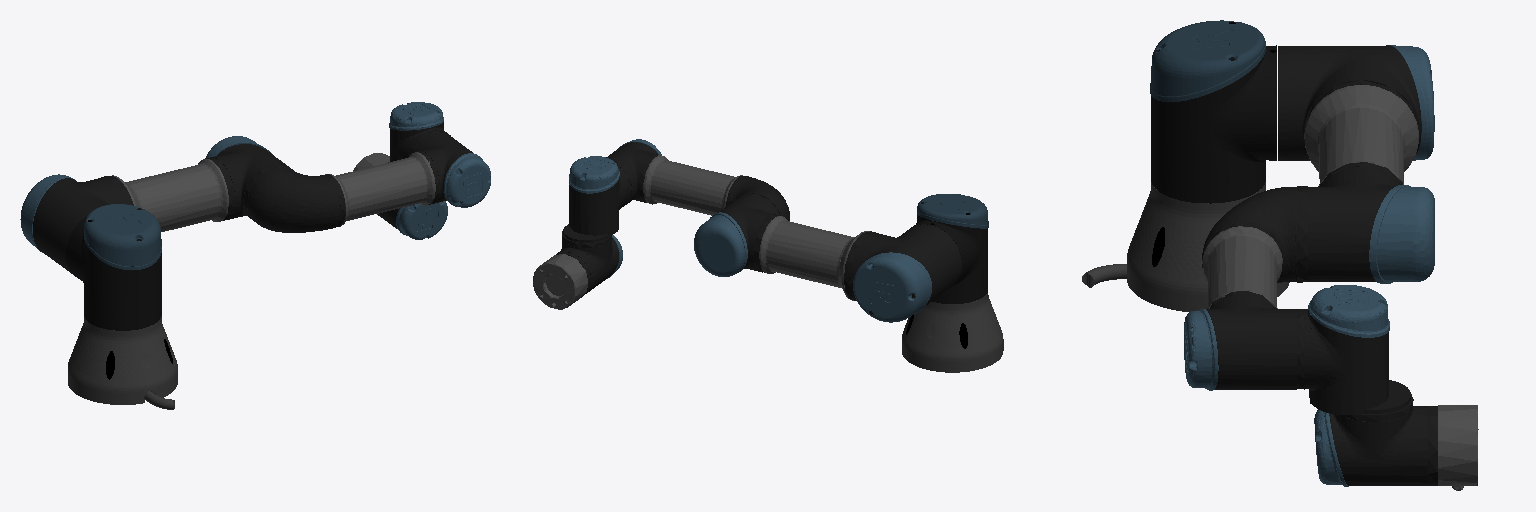
URDF robot description (ur):
<?xml version="1.0" ?>
<!-- =================================================================================== -->
<!-- |    This document was autogenerated by xacro from ur3e_urdf.xacro                | -->
<!-- |    EDITING THIS FILE BY HAND IS NOT RECOMMENDED                                 | -->
<!-- =================================================================================== -->
<robot name="ur">
  <!-- Source: ROS 2 Iron branch of the ur_description package -->
  <!-- https://github.com/UniversalRobots/Universal_Robots_ROS2_Description/blob/iron/urdf/ur.urdf.xacro -->
  <!--
    Base UR robot series xacro macro.

    NOTE this is NOT a URDF. It cannot directly be loaded by consumers
    expecting a flattened '.urdf' file. See the top-level '.xacro' for that
    (but note that .xacro must still be processed by the xacro command).

    This file models the base kinematic chain of a UR robot, which then gets
    parameterised by various configuration files to convert it into a UR3(e),
    UR5(e), UR10(e) or UR16e.

    NOTE the default kinematic parameters (i.e., link lengths, frame locations,
    offsets, etc) do not correspond to any particular robot. They are defaults
    only. There WILL be non-zero offsets between the Forward Kinematics results
    in TF (i.e., robot_state_publisher) and the values reported by the Teach
    Pendant.

    For accurate (and robot-specific) transforms, the 'kinematics_parameters_file'
    parameter MUST point to a .yaml file containing the appropriate values for
    the targeted robot.

    If using the UniversalRobots/Universal_Robots_ROS_Driver, follow the steps
    described in the readme of that repository to extract the kinematic
    calibration from the controller and generate the required .yaml file.

    Main author of the migration to yaml configs [author].

    Contributors to previous versions (in no particular order)

     - [author]
     - [author]
     - [author]
     - [author]
     - [author]
     - [author]
     - [author]
     - [author]
     - [author]
     - [author]
     - [author]
     - [author]
     - [author]
     - [author]
     - [author]
     - [author]
     - [author]
     - [author]
     - [author]
  -->
  <!--
    NOTE the macro defined in this file is NOT part of the public API of this
          package. Users CANNOT rely on this file being available, or stored in
          this location. Nor can they rely on the existence of the macro.
  -->
  <!-- create link fixed to the "world" -->
  <link name="world"/>
  <ros2_control name="ur" type="system">
    <hardware>
      <plugin>ur_robot_driver/URPositionHardwareInterface</plugin>
      <param name="robot_ip">0.0.0.0</param>
      <param name="script_filename"></param>
      <param name="output_recipe_filename"></param>
      <param name="input_recipe_filename"></param>
      <param name="headless_mode">False</param>
      <param name="reverse_port">50001</param>
      <param name="script_sender_port">50002</param>
      <param name="reverse_ip">0.0.0.0</param>
      <param name="script_command_port">50004</param>
      <param name="trajectory_port">50003</param>
      <param name="tf_prefix">ur3e_</param>
      <param name="non_blocking_read">True</param>
      <param name="servoj_gain">2000</param>
      <param name="servoj_lookahead_time">0.03</param>
      <param name="use_tool_communication">False</param>
      <param name="kinematics/hash">calib_16756443741236045476</param>
      <param name="tool_voltage">0</param>
      <param name="tool_parity">0</param>
      <param name="tool_baud_rate">115200</param>
      <param name="tool_stop_bits">1</param>
      <param name="tool_rx_idle_chars">1.5</param>
      <param name="tool_tx_idle_chars">3.5</param>
      <param name="tool_device_name">/tmp/ttyUR</param>
      <param name="tool_tcp_port">54321</param>
      <param name="keep_alive_count">2</param>
    </hardware>
    <joint name="ur3e_shoulder_pan_joint">
      <command_interface name="position">
        <param name="min">{-2*pi}</param>
        <param name="max">{2*pi}</param>
      </command_interface>
      <command_interface name="velocity">
        <param name="min">-3.15</param>
        <param name="max">3.15</param>
      </command_interface>
      <state_interface name="position">
        <!-- initial position for the FakeSystem and simulation -->
        <param name="initial_value">0.0</param>
      </state_interface>
      <state_interface name="velocity"/>
      <state_interface name="effort"/>
    </joint>
    <joint name="ur3e_shoulder_lift_joint">
      <command_interface name="position">
        <param name="min">{-2*pi}</param>
        <param name="max">{2*pi}</param>
      </command_interface>
      <command_interface name="velocity">
        <param name="min">-3.15</param>
        <param name="max">3.15</param>
      </command_interface>
      <state_interface name="position">
        <!-- initial position for the FakeSystem and simulation -->
        <param name="initial_value">-1.57</param>
      </state_interface>
      <state_interface name="velocity"/>
      <state_interface name="effort"/>
    </joint>
    <joint name="ur3e_elbow_joint">
      <command_interface name="position">
        <param name="min">{-pi}</param>
        <param name="max">{pi}</param>
      </command_interface>
      <command_interface name="velocity">
        <param name="min">-3.15</param>
        <param name="max">3.15</param>
      </command_interface>
      <state_interface name="position">
        <!-- initial position for the FakeSystem and simulation -->
        <param name="initial_value">0.0</param>
      </state_interface>
      <state_interface name="velocity"/>
      <state_interface name="effort"/>
    </joint>
    <joint name="ur3e_wrist_1_joint">
      <command_interface name="position">
        <param name="min">{-2*pi}</param>
        <param name="max">{2*pi}</param>
      </command_interface>
      <command_interface name="velocity">
        <param name="min">-3.2</param>
        <param name="max">3.2</param>
      </command_interface>
      <state_interface name="position">
        <!-- initial position for the FakeSystem and simulation -->
        <param name="initial_value">-1.57</param>
      </state_interface>
      <state_interface name="velocity"/>
      <state_interface name="effort"/>
    </joint>
    <joint name="ur3e_wrist_2_joint">
      <command_interface name="position">
        <param name="min">{-2*pi}</param>
        <param name="max">{2*pi}</param>
      </command_interface>
      <command_interface name="velocity">
        <param name="min">-3.2</param>
        <param name="max">3.2</param>
      </command_interface>
      <state_interface name="position">
        <!-- initial position for the FakeSystem and simulation -->
        <param name="initial_value">0.0</param>
      </state_interface>
      <state_interface name="velocity"/>
      <state_interface name="effort"/>
    </joint>
    <joint name="ur3e_wrist_3_joint">
      <command_interface name="position">
        <param name="min">{-2*pi}</param>
        <param name="max">{2*pi}</param>
      </command_interface>
      <command_interface name="velocity">
        <param name="min">-3.2</param>
        <param name="max">3.2</param>
      </command_interface>
      <state_interface name="position">
        <!-- initial position for the FakeSystem and simulation -->
        <param name="initial_value">0.0</param>
      </state_interface>
      <state_interface name="velocity"/>
      <state_interface name="effort"/>
    </joint>
    <sensor name="ur3e_tcp_fts_sensor">
      <state_interface name="force.x"/>
      <state_interface name="force.y"/>
      <state_interface name="force.z"/>
      <state_interface name="torque.x"/>
      <state_interface name="torque.y"/>
      <state_interface name="torque.z"/>
    </sensor>
    <!-- NOTE The following are joints used only for testing with fake hardware and will change in the future -->
    <gpio name="ur3e_speed_scaling">
      <state_interface name="speed_scaling_factor"/>
      <param name="initial_speed_scaling_factor">1</param>
      <command_interface name="target_speed_fraction_cmd"/>
      <command_interface name="target_speed_fraction_async_success"/>
    </gpio>
    <gpio name="ur3e_gpio">
      <command_interface name="standard_digital_output_cmd_0"/>
      <command_interface name="standard_digital_output_cmd_1"/>
      <command_interface name="standard_digital_output_cmd_2"/>
      <command_interface name="standard_digital_output_cmd_3"/>
      <command_interface name="standard_digital_output_cmd_4"/>
      <command_interface name="standard_digital_output_cmd_5"/>
      <command_interface name="standard_digital_output_cmd_6"/>
      <command_interface name="standard_digital_output_cmd_7"/>
      <command_interface name="standard_digital_output_cmd_8"/>
      <command_interface name="standard_digital_output_cmd_9"/>
      <command_interface name="standard_digital_output_cmd_10"/>
      <command_interface name="standard_digital_output_cmd_11"/>
      <command_interface name="standard_digital_output_cmd_12"/>
      <command_interface name="standard_digital_output_cmd_13"/>
      <command_interface name="standard_digital_output_cmd_14"/>
      <command_interface name="standard_digital_output_cmd_15"/>
      <command_interface name="standard_digital_output_cmd_16"/>
      <command_interface name="standard_digital_output_cmd_17"/>
      <command_interface name="standard_analog_output_cmd_0"/>
      <command_interface name="standard_analog_output_cmd_1"/>
      <command_interface name="tool_voltage_cmd"/>
      <command_interface name="io_async_success"/>
      <state_interface name="digital_output_0"/>
      <state_interface name="digital_output_1"/>
      <state_interface name="digital_output_2"/>
      <state_interface name="digital_output_3"/>
      <state_interface name="digital_output_4"/>
      <state_interface name="digital_output_5"/>
      <state_interface name="digital_output_6"/>
      <state_interface name="digital_output_7"/>
      <state_interface name="digital_output_8"/>
      <state_interface name="digital_output_9"/>
      <state_interface name="digital_output_10"/>
      <state_interface name="digital_output_11"/>
      <state_interface name="digital_output_12"/>
      <state_interface name="digital_output_13"/>
      <state_interface name="digital_output_14"/>
      <state_interface name="digital_output_15"/>
      <state_interface name="digital_output_16"/>
      <state_interface name="digital_output_17"/>
      <state_interface name="digital_input_0"/>
      <state_interface name="digital_input_1"/>
      <state_interface name="digital_input_2"/>
      <state_interface name="digital_input_3"/>
      <state_interface name="digital_input_4"/>
      <state_interface name="digital_input_5"/>
      <state_interface name="digital_input_6"/>
      <state_interface name="digital_input_7"/>
      <state_interface name="digital_input_8"/>
      <state_interface name="digital_input_9"/>
      <state_interface name="digital_input_10"/>
      <state_interface name="digital_input_11"/>
      <state_interface name="digital_input_12"/>
      <state_interface name="digital_input_13"/>
      <state_interface name="digital_input_14"/>
      <state_interface name="digital_input_15"/>
      <state_interface name="digital_input_16"/>
      <state_interface name="digital_input_17"/>
      <state_interface name="standard_analog_output_0"/>
      <state_interface name="standard_analog_output_1"/>
      <state_interface name="standard_analog_input_0"/>
      <state_interface name="standard_analog_input_1"/>
      <state_interface name="analog_io_type_0"/>
      <state_interface name="analog_io_type_1"/>
      <state_interface name="analog_io_type_2"/>
      <state_interface name="analog_io_type_3"/>
      <state_interface name="tool_mode"/>
      <state_interface name="tool_output_voltage"/>
      <state_interface name="tool_output_current"/>
      <state_interface name="tool_temperature"/>
      <state_interface name="tool_analog_input_0"/>
      <state_interface name="tool_analog_input_1"/>
      <state_interface name="tool_analog_input_type_0"/>
      <state_interface name="tool_analog_input_type_1"/>
      <state_interface name="robot_mode"/>
      <state_interface name="robot_status_bit_0"/>
      <state_interface name="robot_status_bit_1"/>
      <state_interface name="robot_status_bit_2"/>
      <state_interface name="robot_status_bit_3"/>
      <state_interface name="safety_mode"/>
      <state_interface name="safety_status_bit_0"/>
      <state_interface name="safety_status_bit_1"/>
      <state_interface name="safety_status_bit_2"/>
      <state_interface name="safety_status_bit_3"/>
      <state_interface name="safety_status_bit_4"/>
      <state_interface name="safety_status_bit_5"/>
      <state_interface name="safety_status_bit_6"/>
      <state_interface name="safety_status_bit_7"/>
      <state_interface name="safety_status_bit_8"/>
      <state_interface name="safety_status_bit_9"/>
      <state_interface name="safety_status_bit_10"/>
      <state_interface name="program_running"/>
    </gpio>
    <gpio name="ur3e_payload">
      <command_interface name="mass"/>
      <command_interface name="cog.x"/>
      <command_interface name="cog.y"/>
      <command_interface name="cog.z"/>
      <command_interface name="payload_async_success"/>
    </gpio>
    <gpio name="ur3e_resend_robot_program">
      <command_interface name="resend_robot_program_cmd"/>
      <command_interface name="resend_robot_program_async_success"/>
    </gpio>
    <gpio name="ur3e_hand_back_control">
      <command_interface name="hand_back_control_cmd"/>
      <command_interface name="hand_back_control_async_success"/>
    </gpio>
    <gpio name="ur3e_zero_ftsensor">
      <command_interface name="zero_ftsensor_cmd"/>
      <command_interface name="zero_ftsensor_async_success"/>
    </gpio>
    <gpio name="ur3e_system_interface">
      <state_interface name="initialized"/>
    </gpio>
  </ros2_control>
  <!-- Add URDF transmission elements (for ros_control) -->
  <!--<xacro:ur_arm_transmission prefix="${prefix}" hw_interface="${transmission_hw_interface}" />-->
  <!-- Placeholder for ros2_control transmission which don't yet exist -->
  <!-- links -  main serial chain -->
  <link name="ur3e_base_link"/>
  <link name="ur3e_base_link_inertia">
    <visual>
      <origin rpy="0 0 3.141592653589793" xyz="0 0 0"/>
      <geometry>
        <mesh filename="package://ur_description/meshes/ur3e/visual/base.dae"/>
      </geometry>
    </visual>
    <collision>
      <origin rpy="0 0 3.141592653589793" xyz="0 0 0"/>
      <geometry>
        <mesh filename="package://ur_description/meshes/ur3e/collision/base.stl"/>
      </geometry>
    </collision>
    <inertial>
      <mass value="2.0"/>
      <origin rpy="0 0 0" xyz="0 0 0"/>
      <inertia ixx="0.0030531654454" ixy="0.0" ixz="0.0" iyy="0.0030531654454" iyz="0.0" izz="0.005625"/>
    </inertial>
  </link>
  <link name="ur3e_shoulder_link">
    <visual>
      <origin rpy="0 0 3.141592653589793" xyz="0 0 0"/>
      <geometry>
        <mesh filename="package://ur_description/meshes/ur3e/visual/shoulder.dae"/>
      </geometry>
    </visual>
    <collision>
      <origin rpy="0 0 3.141592653589793" xyz="0 0 0"/>
      <geometry>
        <mesh filename="package://ur_description/meshes/ur3e/collision/shoulder.stl"/>
      </geometry>
    </collision>
    <inertial>
      <mass value="2.0"/>
      <origin rpy="0 0 0" xyz="0 0 0"/>
      <inertia ixx="0.008093163429399999" ixy="0.0" ixz="0.0" iyy="0.008093163429399999" iyz="0.0" izz="0.005625"/>
    </inertial>
  </link>
  <link name="ur3e_upper_arm_link">
    <visual>
      <origin rpy="1.5707963267948966 0 -1.5707963267948966" xyz="0 0 0.12"/>
      <geometry>
        <mesh filename="package://ur_description/meshes/ur3e/visual/upperarm.dae"/>
      </geometry>
    </visual>
    <collision>
      <origin rpy="1.5707963267948966 0 -1.5707963267948966" xyz="0 0 0.12"/>
      <geometry>
        <mesh filename="package://ur_description/meshes/ur3e/collision/upperarm.stl"/>
      </geometry>
    </collision>
    <inertial>
      <mass value="3.42"/>
      <origin rpy="0 1.5707963267948966 0" xyz="-0.121825 0.0 0.12"/>
      <inertia ixx="0.021728483221103233" ixy="0.0" ixz="0.0" iyy="0.021728483221103233" iyz="0.0" izz="0.00961875"/>
    </inertial>
  </link>
  <link name="ur3e_forearm_link">
    <visual>
      <origin rpy="1.5707963267948966 0 -1.5707963267948966" xyz="0 0 0.027"/>
      <geometry>
        <mesh filename="package://ur_description/meshes/ur3e/visual/forearm.dae"/>
      </geometry>
    </visual>
    <collision>
      <origin rpy="1.5707963267948966 0 -1.5707963267948966" xyz="0 0 0.027"/>
      <geometry>
        <mesh filename="package://ur_description/meshes/ur3e/collision/forearm.stl"/>
      </geometry>
    </collision>
    <inertial>
      <mass value="1.26"/>
      <origin rpy="0 1.5707963267948966 0" xyz="-0.1066 0.0 0.027"/>
      <inertia ixx="0.0065445675821719194" ixy="0.0" ixz="0.0" iyy="0.0065445675821719194" iyz="0.0" izz="0.00354375"/>
    </inertial>
  </link>
  <link name="ur3e_wrist_1_link">
    <visual>
      <origin rpy="1.5707963267948966 0 0" xyz="0 0 -0.104"/>
      <geometry>
        <mesh filename="package://ur_description/meshes/ur3e/visual/wrist1.dae"/>
      </geometry>
    </visual>
    <collision>
      <origin rpy="1.5707963267948966 0 0" xyz="0 0 -0.104"/>
      <geometry>
        <mesh filename="package://ur_description/meshes/ur3e/collision/wrist1.stl"/>
      </geometry>
    </collision>
    <inertial>
      <mass value="0.8"/>
      <origin rpy="0 0 0" xyz="0 0 0"/>
      <inertia ixx="0.002084999166" ixy="0.0" ixz="0.0" iyy="0.002084999166" iyz="0.0" izz="0.00225"/>
    </inertial>
  </link>
  <link name="ur3e_wrist_2_link">
    <visual>
      <origin rpy="0 0 0" xyz="0 0 -0.08535"/>
      <geometry>
        <mesh filename="package://ur_description/meshes/ur3e/visual/wrist2.dae"/>
      </geometry>
    </visual>
    <collision>
      <origin rpy="0 0 0" xyz="0 0 -0.08535"/>
      <geometry>
        <mesh filename="package://ur_description/meshes/ur3e/collision/wrist2.stl"/>
      </geometry>
    </collision>
    <inertial>
      <mass value="0.8"/>
      <origin rpy="0 0 0" xyz="0 0 0"/>
      <inertia ixx="0.002084999166" ixy="0.0" ixz="0.0" iyy="0.002084999166" iyz="0.0" izz="0.00225"/>
    </inertial>
  </link>
  <link name="ur3e_wrist_3_link">
    <visual>
      <origin rpy="1.5707963267948966 0 0" xyz="0 0 -0.0921"/>
      <geometry>
        <mesh filename="package://ur_description/meshes/ur3e/visual/wrist3.dae"/>
      </geometry>
    </visual>
    <collision>
      <origin rpy="1.5707963267948966 0 0" xyz="0 0 -0.0921"/>
      <geometry>
        <mesh filename="package://ur_description/meshes/ur3e/collision/wrist3.stl"/>
      </geometry>
    </collision>
    <inertial>
      <mass value="0.35"/>
      <origin rpy="0 0 0" xyz="0.0 0.0 -0.02"/>
      <inertia ixx="0.00013626661215999998" ixy="0.0" ixz="0.0" iyy="0.00013626661215999998" iyz="0.0" izz="0.0001792"/>
    </inertial>
  </link>
  <!-- base_joint fixes base_link to the environment -->
  <joint name="ur3e_base_joint" type="fixed">
    <origin rpy="0 0 0" xyz="0 0 0"/>
    <parent link="world"/>
    <child link="ur3e_base_link"/>
  </joint>
  <!-- joints - main serial chain -->
  <joint name="ur3e_base_link-base_link_inertia" type="fixed">
    <parent link="ur3e_base_link"/>
    <child link="ur3e_base_link_inertia"/>
    <!-- 'base_link' is REP-103 aligned (so X+ forward), while the internal
           frames of the robot/controller have X+ pointing backwards.
           Use the joint between 'base_link' and 'base_link_inertia' (a dummy
           link/frame) to introduce the necessary rotation over Z (of pi rad).
      -->
    <origin rpy="0 0 3.141592653589793" xyz="0 0 0"/>
  </joint>
  <joint name="ur3e_shoulder_pan_joint" type="revolute">
    <parent link="ur3e_base_link_inertia"/>
    <child link="ur3e_shoulder_link"/>
    <origin rpy="0 0 0" xyz="0 0 0.15185"/>
    <axis xyz="0 0 1"/>
    <limit effort="56.0" lower="-6.283185307179586" upper="6.283185307179586" velocity="3.141592653589793"/>
    <dynamics damping="0" friction="0"/>
  </joint>
  <joint name="ur3e_shoulder_lift_joint" type="revolute">
    <parent link="ur3e_shoulder_link"/>
    <child link="ur3e_upper_arm_link"/>
    <origin rpy="1.570796327 0 0" xyz="0 0 0"/>
    <axis xyz="0 0 1"/>
    <limit effort="56.0" lower="-6.283185307179586" upper="6.283185307179586" velocity="3.141592653589793"/>
    <dynamics damping="0" friction="0"/>
  </joint>
  <joint name="ur3e_elbow_joint" type="revolute">
    <parent link="ur3e_upper_arm_link"/>
    <child link="ur3e_forearm_link"/>
    <origin rpy="0 0 0" xyz="-0.24355 0 0"/>
    <axis xyz="0 0 1"/>
    <limit effort="28.0" lower="-3.141592653589793" upper="3.141592653589793" velocity="3.141592653589793"/>
    <dynamics damping="0" friction="0"/>
  </joint>
  <joint name="ur3e_wrist_1_joint" type="revolute">
    <parent link="ur3e_forearm_link"/>
    <child link="ur3e_wrist_1_link"/>
    <origin rpy="0 0 0" xyz="-0.2132 0 0.13105"/>
    <axis xyz="0 0 1"/>
    <limit effort="12.0" lower="-6.283185307179586" upper="6.283185307179586" velocity="6.283185307179586"/>
    <dynamics damping="0" friction="0"/>
  </joint>
  <joint name="ur3e_wrist_2_joint" type="revolute">
    <parent link="ur3e_wrist_1_link"/>
    <child link="ur3e_wrist_2_link"/>
    <origin rpy="1.570796327 0 0" xyz="0 -0.08535 -1.750557762378351e-11"/>
    <axis xyz="0 0 1"/>
    <limit effort="12.0" lower="-6.283185307179586" upper="6.283185307179586" velocity="6.283185307179586"/>
    <dynamics damping="0" friction="0"/>
  </joint>
  <joint name="ur3e_wrist_3_joint" type="revolute">
    <parent link="ur3e_wrist_2_link"/>
    <child link="ur3e_wrist_3_link"/>
    <origin rpy="1.570796326589793 3.141592653589793 3.141592653589793" xyz="0 0.0921 -1.8890025766262e-11"/>
    <axis xyz="0 0 1"/>
    <limit effort="12.0" lower="-6.283185307179586" upper="6.283185307179586" velocity="6.283185307179586"/>
    <dynamics damping="0" friction="0"/>
  </joint>
  <link name="ur3e_ft_frame"/>
  <joint name="ur3e_wrist_3_link-ft_frame" type="fixed">
    <parent link="ur3e_wrist_3_link"/>
    <child link="ur3e_ft_frame"/>
    <origin rpy="3.141592653589793 0 0" xyz="0 0 0"/>
  </joint>
  <!-- ROS-Industrial 'base' frame - base_link to UR 'Base' Coordinates transform -->
  <link name="ur3e_base"/>
  <joint name="ur3e_base_link-base_fixed_joint" type="fixed">
    <!-- Note the rotation over Z of pi radians - as base_link is REP-103
           aligned (i.e., has X+ forward, Y+ left and Z+ up), this is needed
           to correctly align 'base' with the 'Base' coordinate system of
           the UR controller.
      -->
    <origin rpy="0 0 3.141592653589793" xyz="0 0 0"/>
    <parent link="ur3e_base_link"/>
    <child link="ur3e_base"/>
  </joint>
  <!-- ROS-Industrial 'flange' frame - attachment point for EEF models -->
  <link name="ur3e_flange"/>
  <joint name="ur3e_wrist_3-flange" type="fixed">
    <parent link="ur3e_wrist_3_link"/>
    <child link="ur3e_flange"/>
    <origin rpy="0 -1.5707963267948966 -1.5707963267948966" xyz="0 0 0"/>
  </joint>
  <!-- ROS-Industrial 'tool0' frame - all-zeros tool frame -->
  <link name="ur3e_tool0"/>
  <joint name="ur3e_flange-tool0" type="fixed">
    <!-- default toolframe - X+ left, Y+ up, Z+ front -->
    <origin rpy="1.5707963267948966 0 1.5707963267948966" xyz="0 0 0"/>
    <parent link="ur3e_flange"/>
    <child link="ur3e_tool0"/>
  </joint>
</robot>

--- Facts derived from the render (not from the file) ---
The picture shows the robot from 3 angles, left to right: view 1: azimuth 30°, elevation 25°; view 2: azimuth 150°, elevation 25°; view 3: azimuth 270°, elevation 25°; orthographic projection.
Robot: ur — 13 links, 12 joints (6 revolute, 6 fixed); root link world; default pose: all joints at 0.
Links seen in each view (by area): view 1: ur3e_forearm_link, ur3e_upper_arm_link, ur3e_shoulder_link, ur3e_base_link_inertia, ur3e_wrist_1_link, ur3e_wrist_2_link; view 2: ur3e_upper_arm_link, ur3e_forearm_link, ur3e_base_link_inertia, ur3e_shoulder_link, ur3e_wrist_1_link, ur3e_wrist_3_link, ur3e_wrist_2_link; view 3: ur3e_upper_arm_link, ur3e_shoulder_link, ur3e_forearm_link, ur3e_wrist_1_link, ur3e_base_link_inertia, ur3e_wrist_2_link, ur3e_wrist_3_link.
Boxes of the visible links, x1,y1,x2,y2 form: ur3e_forearm_link: (247, 132, 490, 232); ur3e_upper_arm_link: (20, 136, 292, 273); ur3e_shoulder_link: (66, 204, 161, 330); ur3e_base_link_inertia: (68, 316, 177, 409); ur3e_wrist_1_link: (389, 102, 450, 161); ur3e_wrist_2_link: (377, 162, 447, 239); ur3e_upper_arm_link: (694, 193, 961, 322); ur3e_forearm_link: (606, 139, 789, 220); ur3e_base_link_inertia: (902, 293, 1003, 372); ur3e_shoulder_link: (911, 194, 988, 303); ur3e_wrist_1_link: (569, 156, 631, 235); ur3e_wrist_3_link: (533, 252, 591, 309); ur3e_wrist_2_link: (556, 224, 622, 293); ur3e_upper_arm_link: (1278, 45, 1434, 283); ur3e_shoulder_link: (1150, 20, 1276, 203); ur3e_forearm_link: (1184, 187, 1296, 390); ur3e_wrist_1_link: (1297, 285, 1389, 414); ur3e_base_link_inertia: (1082, 182, 1289, 311); ur3e_wrist_2_link: (1314, 380, 1427, 486); ur3e_wrist_3_link: (1428, 405, 1478, 490).
Bounding box of the posed robot: 0.553 × 0.311 × 0.2096 m (x, y, z).
7 mesh visuals loaded from 7 distinct referenced files (7 Collada DAE).
